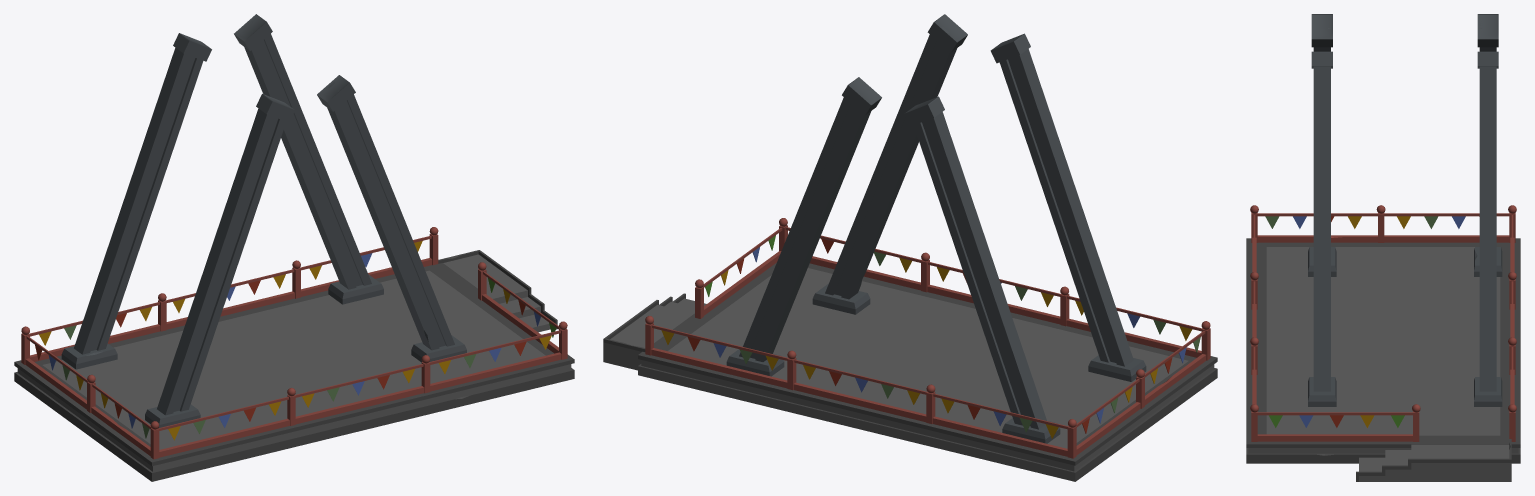
Rendered from SM_Props_Park_02.fbx.
The picture shows the model from 3 angles, left to right: view 1: azimuth 30°, elevation 25°; view 2: azimuth 150°, elevation 25°; view 3: azimuth 270°, elevation 25°; orthographic projection. The views are drawn at different scales.
Visible parts, largest first — view 1: SM_Props_Park_02; view 2: SM_Props_Park_02; view 3: SM_Props_Park_02.
Boxes of the visible parts, x1=… form: SM_Props_Park_02: x1=14, y1=14, x2=574, y2=481; SM_Props_Park_02: x1=603, y1=14, x2=1217, y2=481; SM_Props_Park_02: x1=1246, y1=14, x2=1520, y2=481.
Size of the model in its own units: 14.85 by 9.83 by 7.68.
